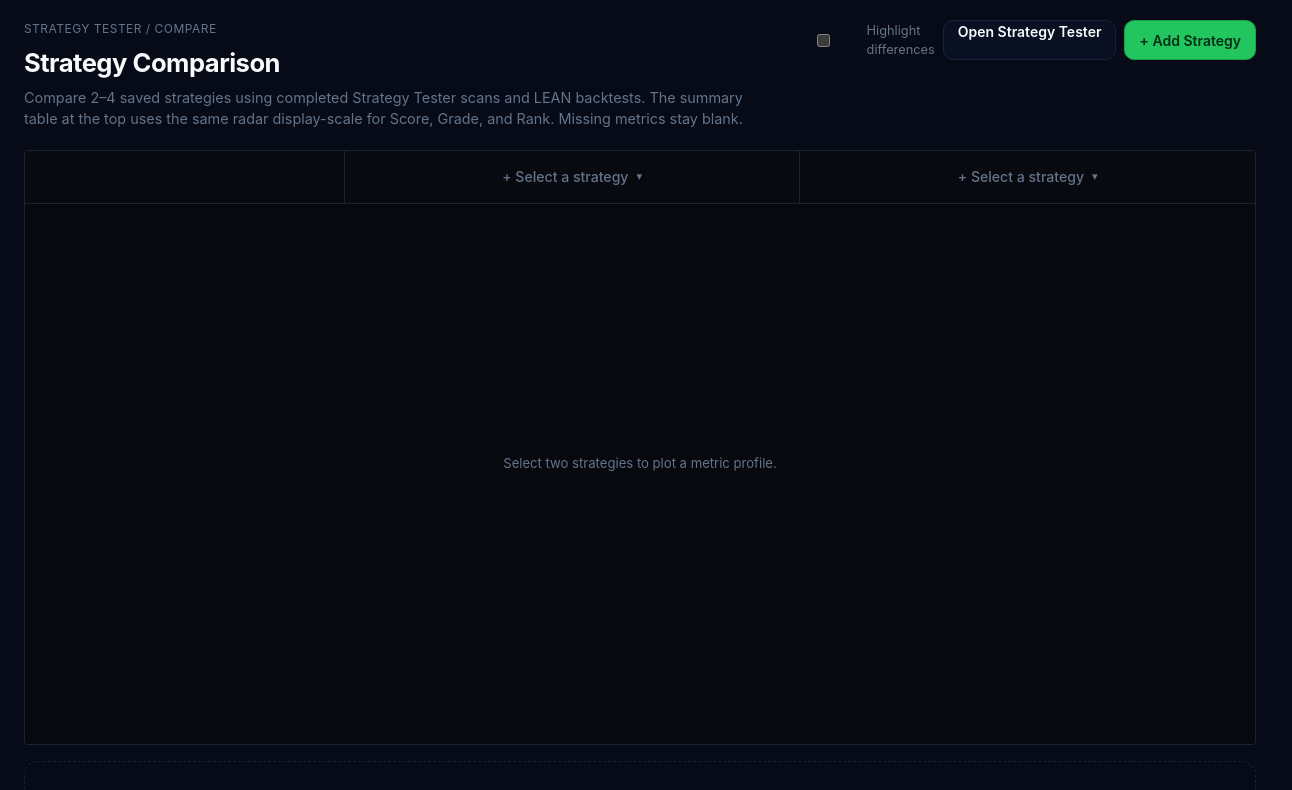
Test case: StrategyComparisonPage › compares selected strategies with real API payload and warns on config mismatch
The image size is (1292, 790).
Click the button with test id "sc-select-cta-0": (572, 176) [498, 164, 646, 189]
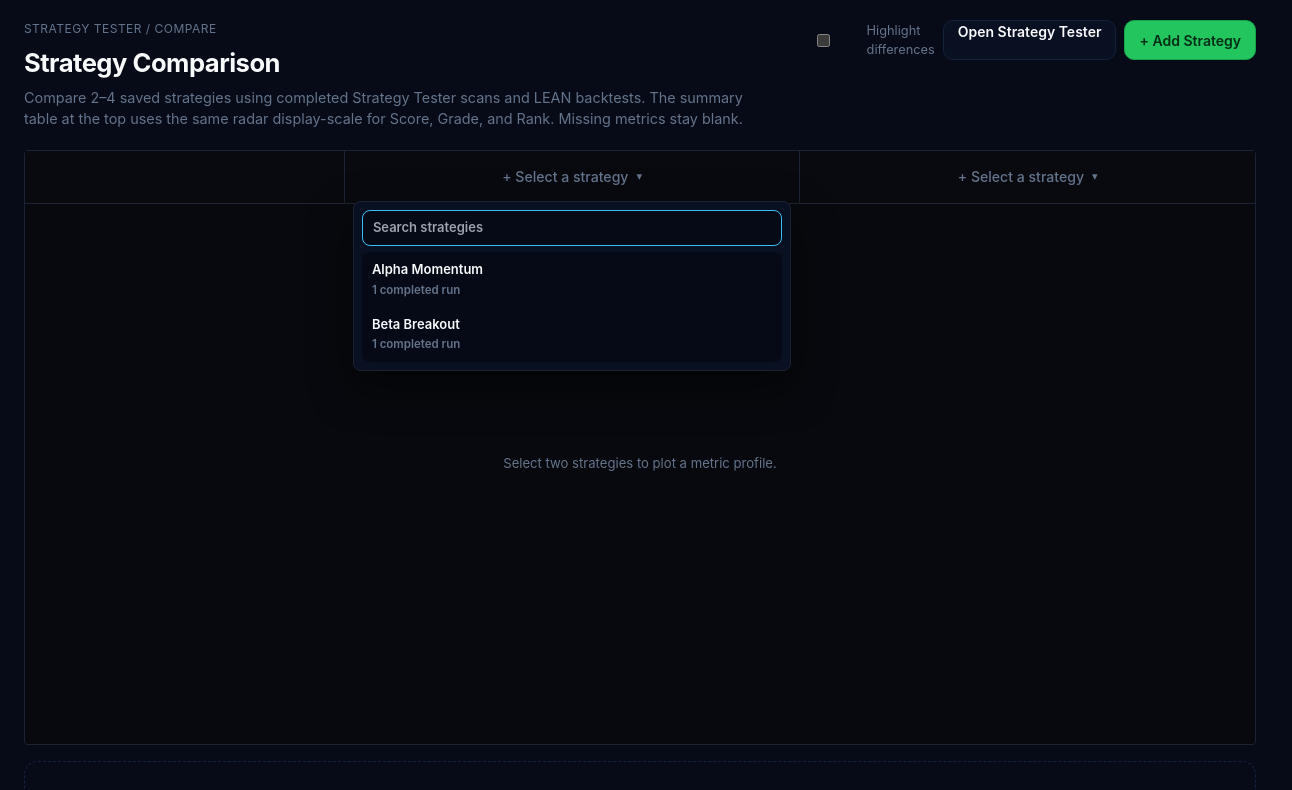
Click the button "Alpha Momentum 1 completed run": (427, 269) [362, 252, 782, 307]
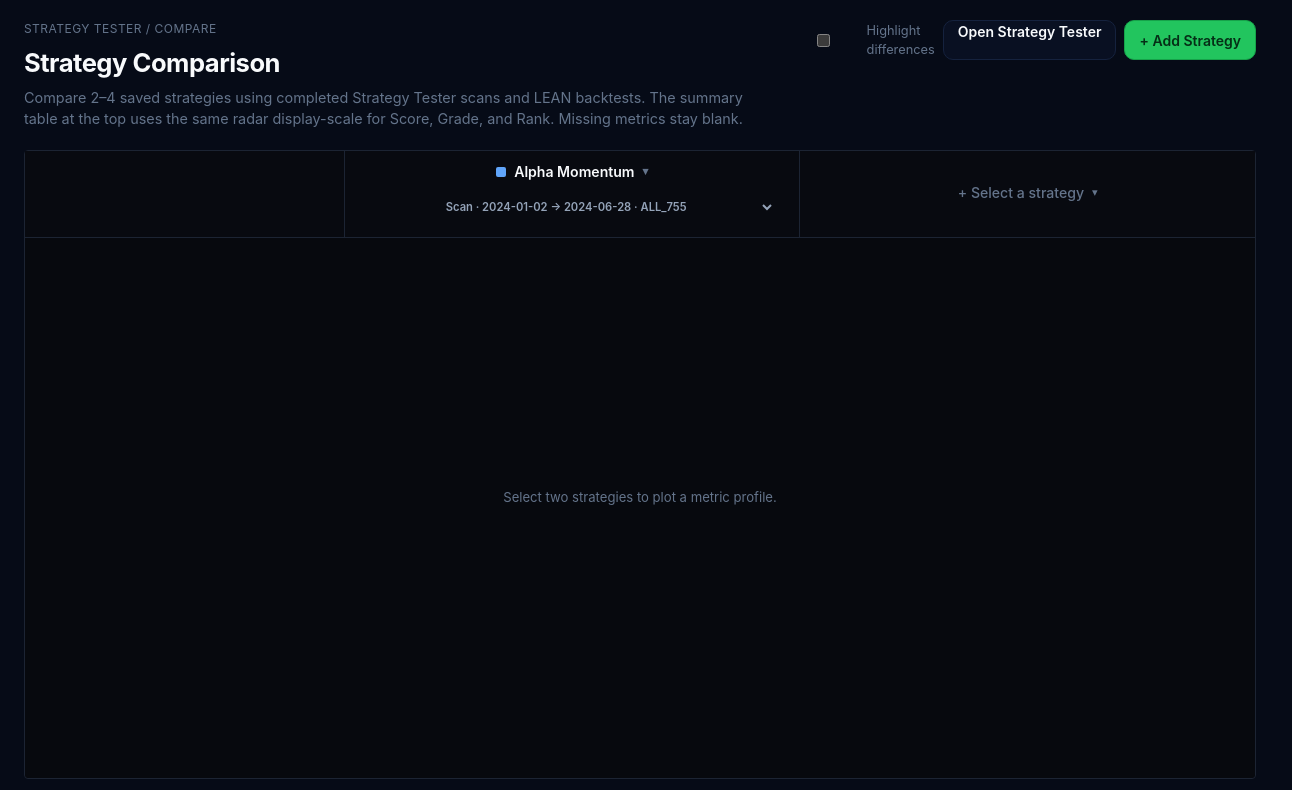
Now the dropdown with test id "sc-run-select-0" is shown
Select "Scan · 2024-01-02 → 2024-06-28 · ALL_755" in the dropdown with test id "sc-run-select-0": (572, 208) [370, 188, 774, 227]
Click the button with test id "sc-select-cta-1": (1028, 193) [954, 180, 1102, 205]
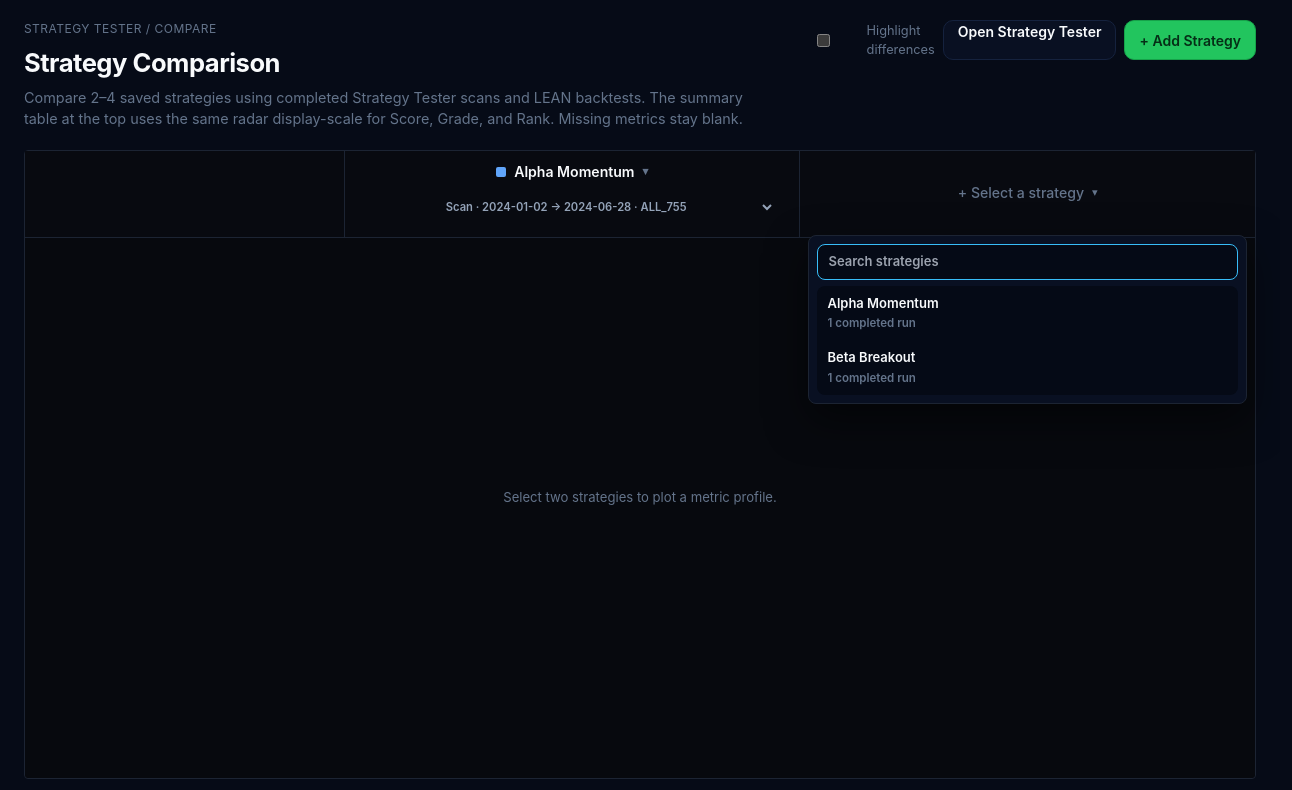
Click the button "Beta Breakout 1 completed run": (871, 357) [817, 340, 1238, 395]
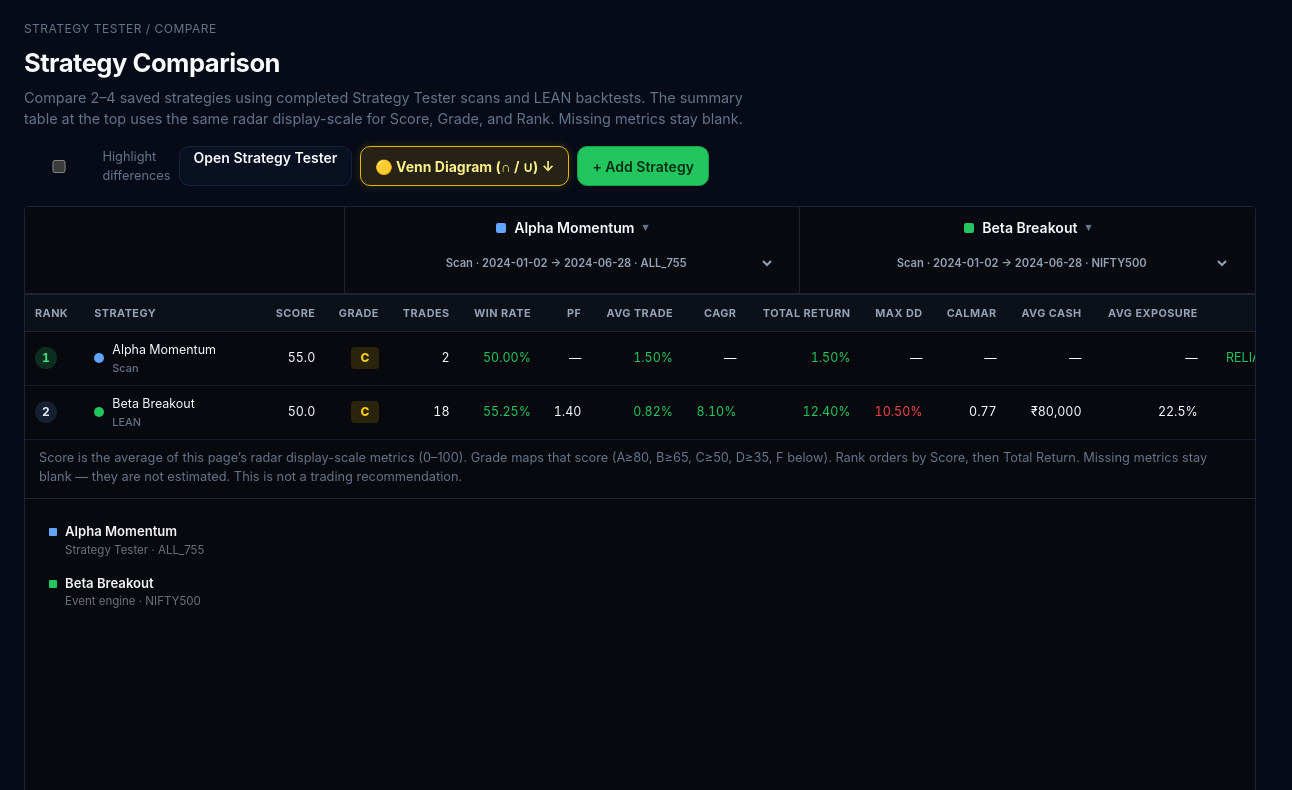
Now the dropdown with test id "sc-run-select-1" is shown
Select "Scan · 2024-01-02 → 2024-06-28 · NIFTY500" in the dropdown with test id "sc-run-select-1": (1028, 264) [825, 244, 1230, 283]
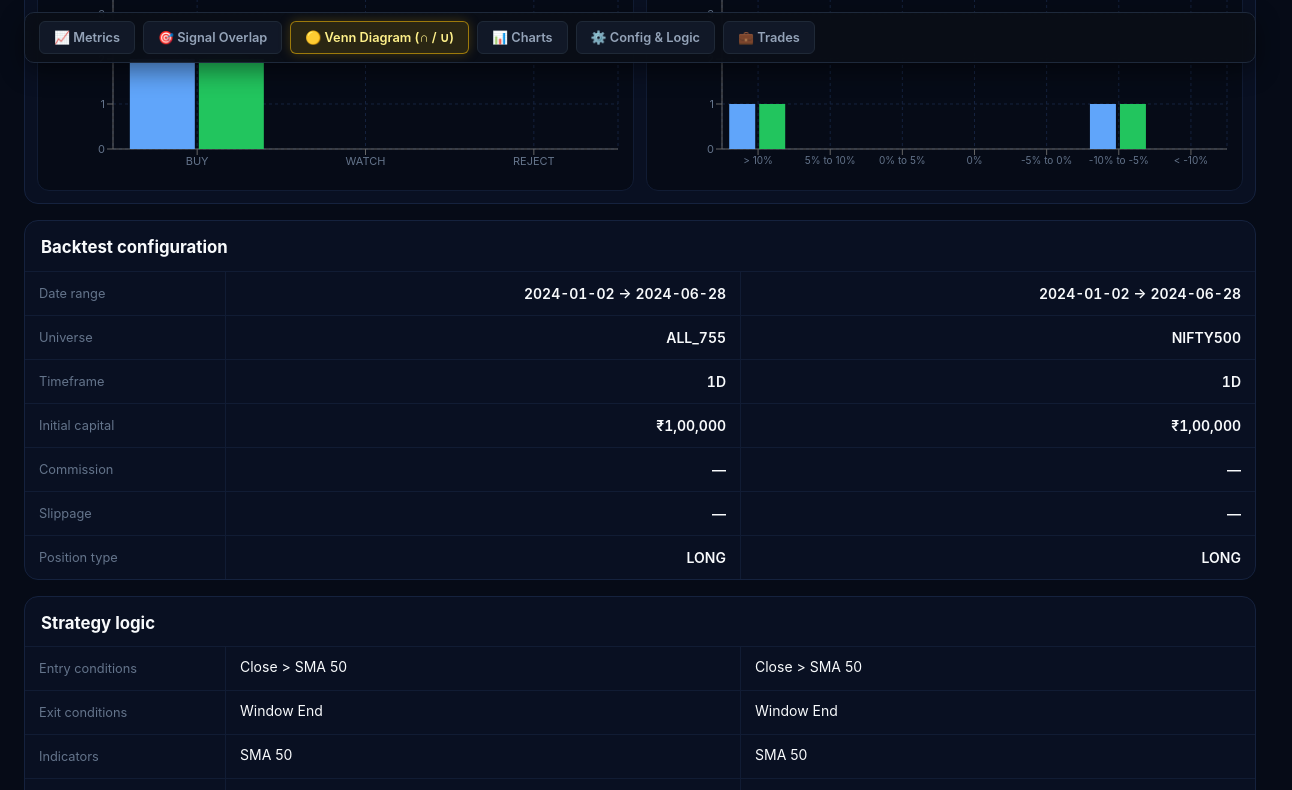
Now the element with test id "sc-config" is shown, box [24, 220, 1256, 580]
